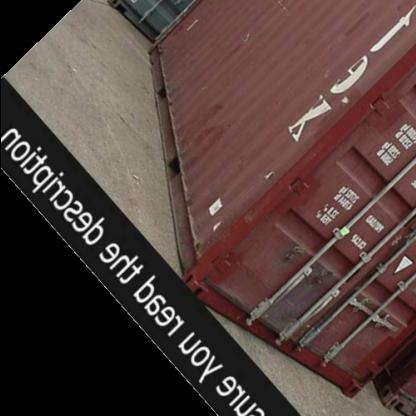Damage: (182, 15, 208, 35), (236, 29, 262, 46), (258, 168, 282, 184)
